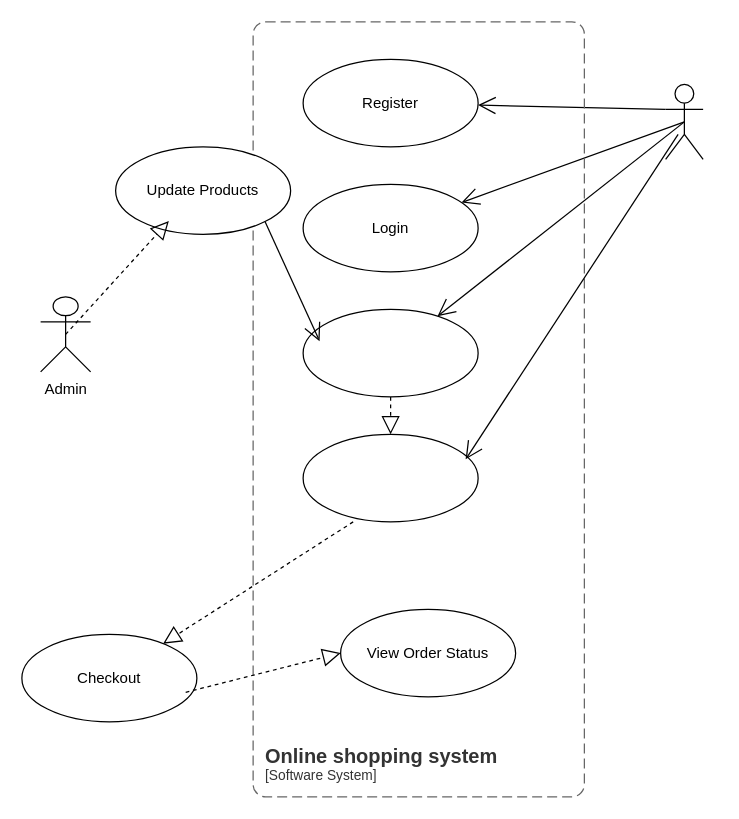
This 739x819 diagram has some shape labels left out. The centre of each missing label's shape, as x and y in pixels:
Customer: the point at 683,121
Make purchase: the point at 390,477
View Products: the point at 390,352
